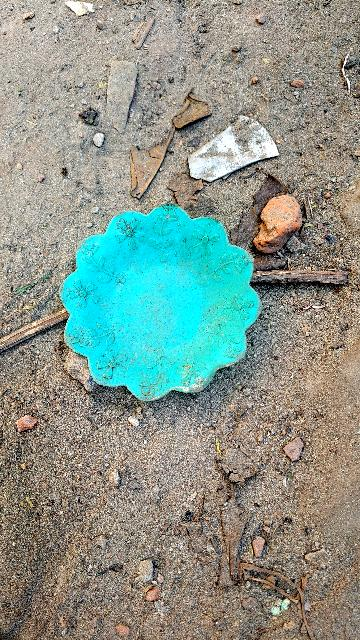hardplastic: (59, 199, 272, 414)
